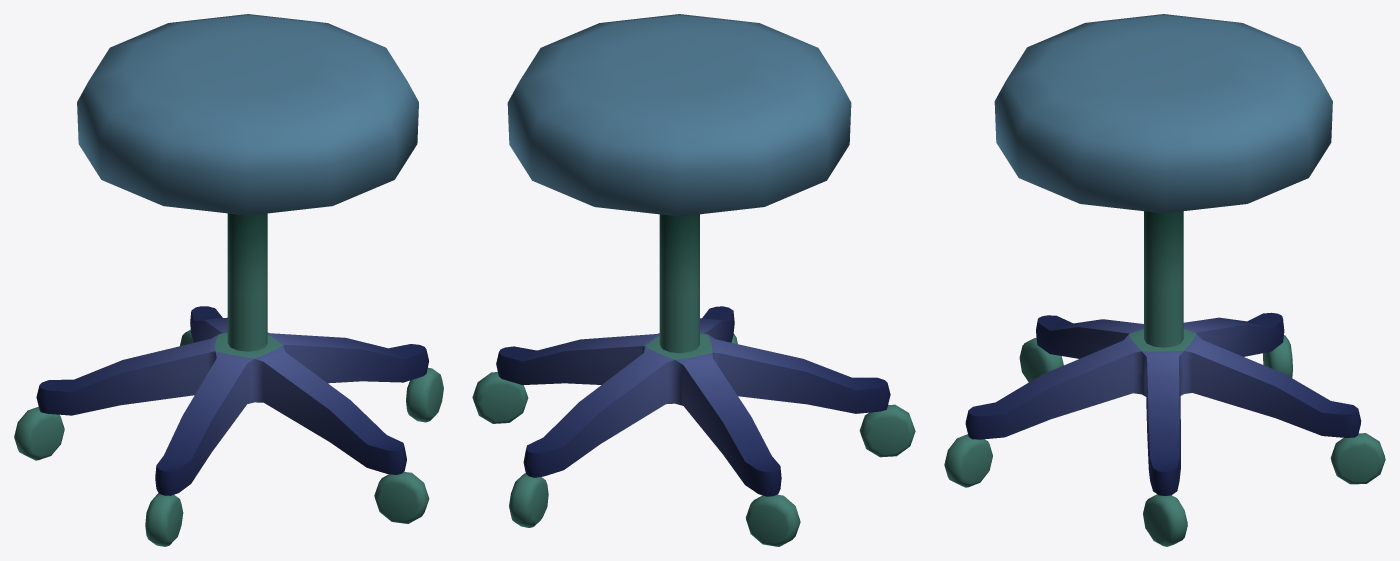
The model's file is Stool.fbx.
The picture shows the model from 3 angles, left to right: view 1: azimuth 30°, elevation 25°; view 2: azimuth 150°, elevation 25°; view 3: azimuth 270°, elevation 25°; orthographic projection.
Parts seen in each view (by area): view 1: pCylinder8; view 2: pCylinder8; view 3: pCylinder8.
Boxes of the visible parts, x1=… form: pCylinder8: x1=14, y1=14, x2=443, y2=546; pCylinder8: x1=472, y1=14, x2=915, y2=546; pCylinder8: x1=944, y1=14, x2=1385, y2=546.
Size of the model in its own units: 20.39 by 20.69 by 21.04.
1 material, 1 textured.
